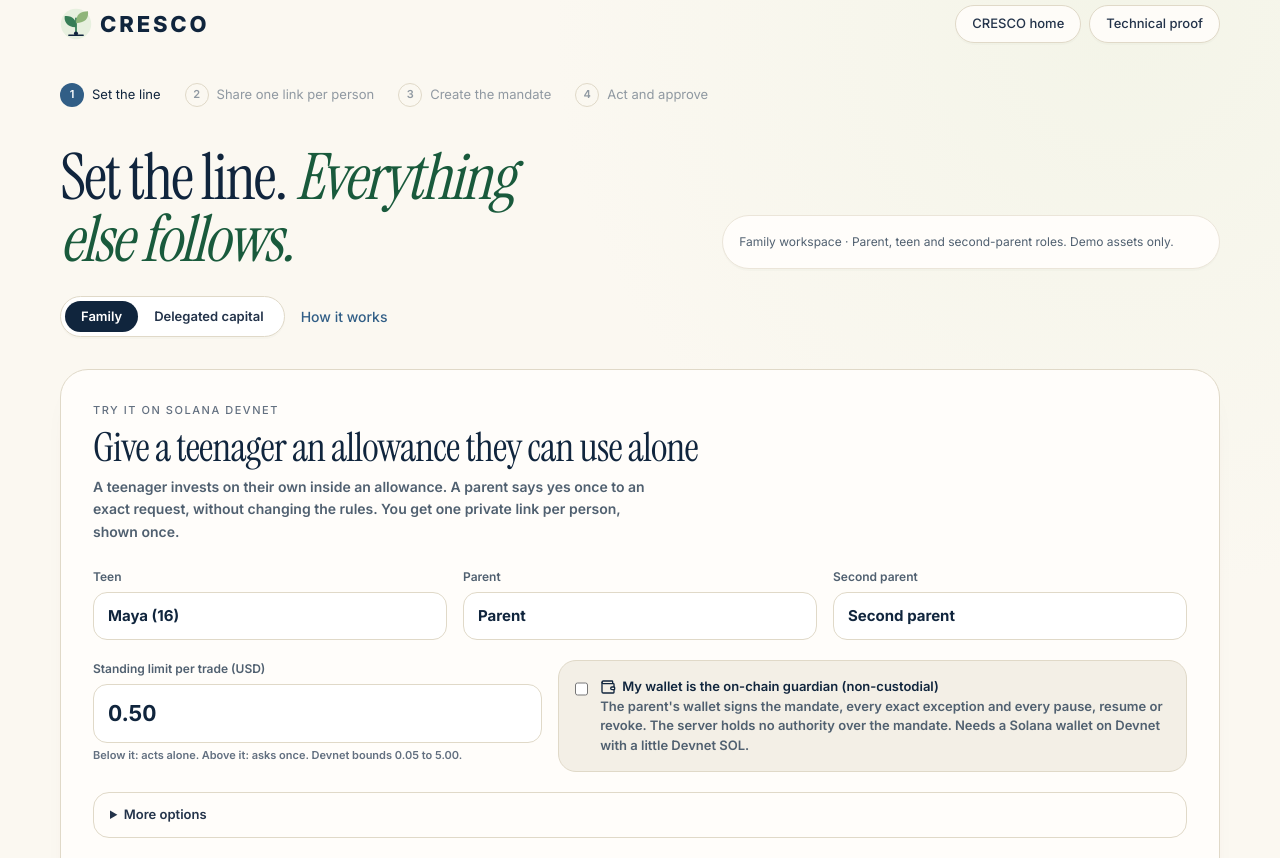
Test case: World's Fair desk › offers the family and delegated-capital presentations of the same mechanism
Expected: the heading "Give a teenager an allowance they can use alone" is shown, [93,421,698,473]
What coordinates should you click on to do the following:
click the radio button labelled "Delegated capital"
I would click on:
 (209, 317)
Its box is [138,301,280,332].
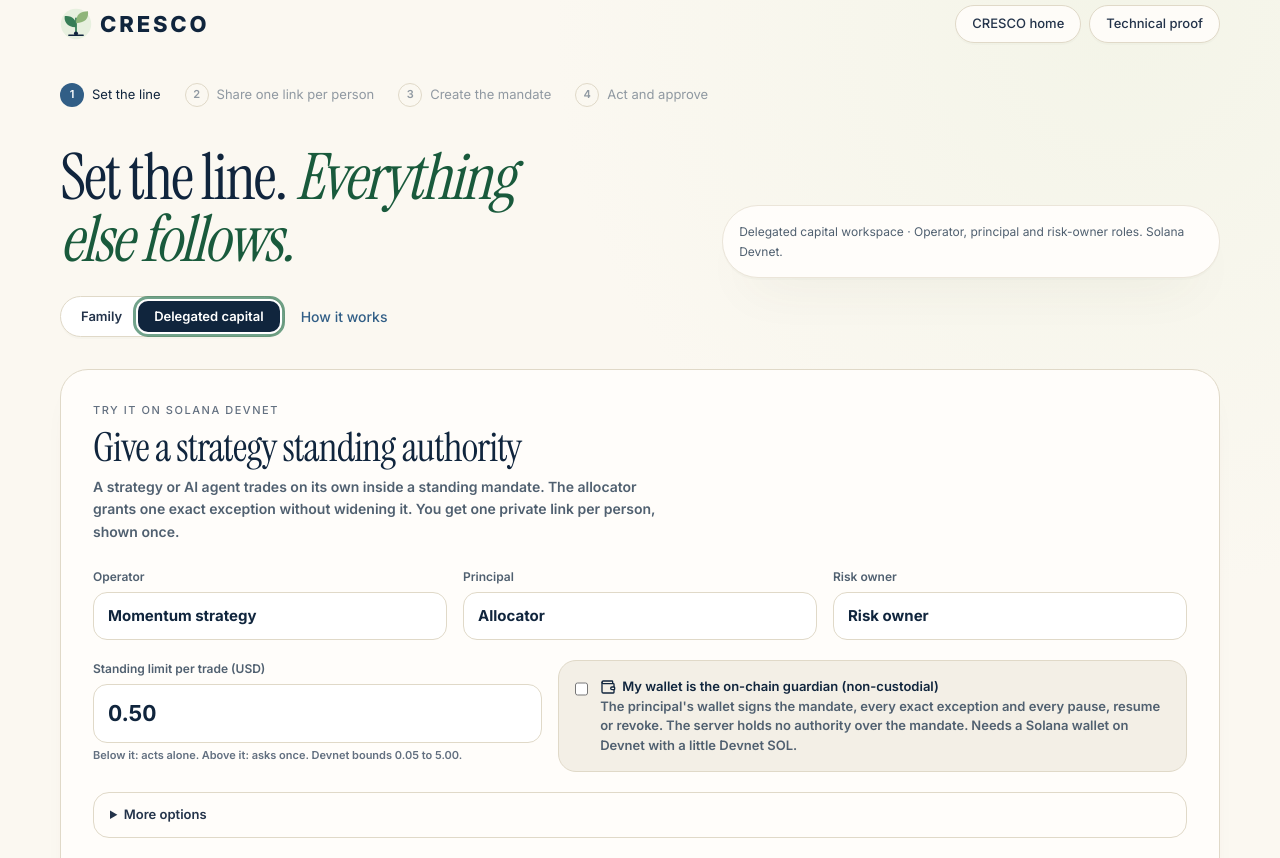
Expected: the heading "Give a strategy standing authority" is shown, [93,421,521,473]
What coordinates should you click on to do the following:
click the radio button labelled "Family"
I would click on:
 (102, 317)
Its box is [65,301,138,332].
(page scrolled)
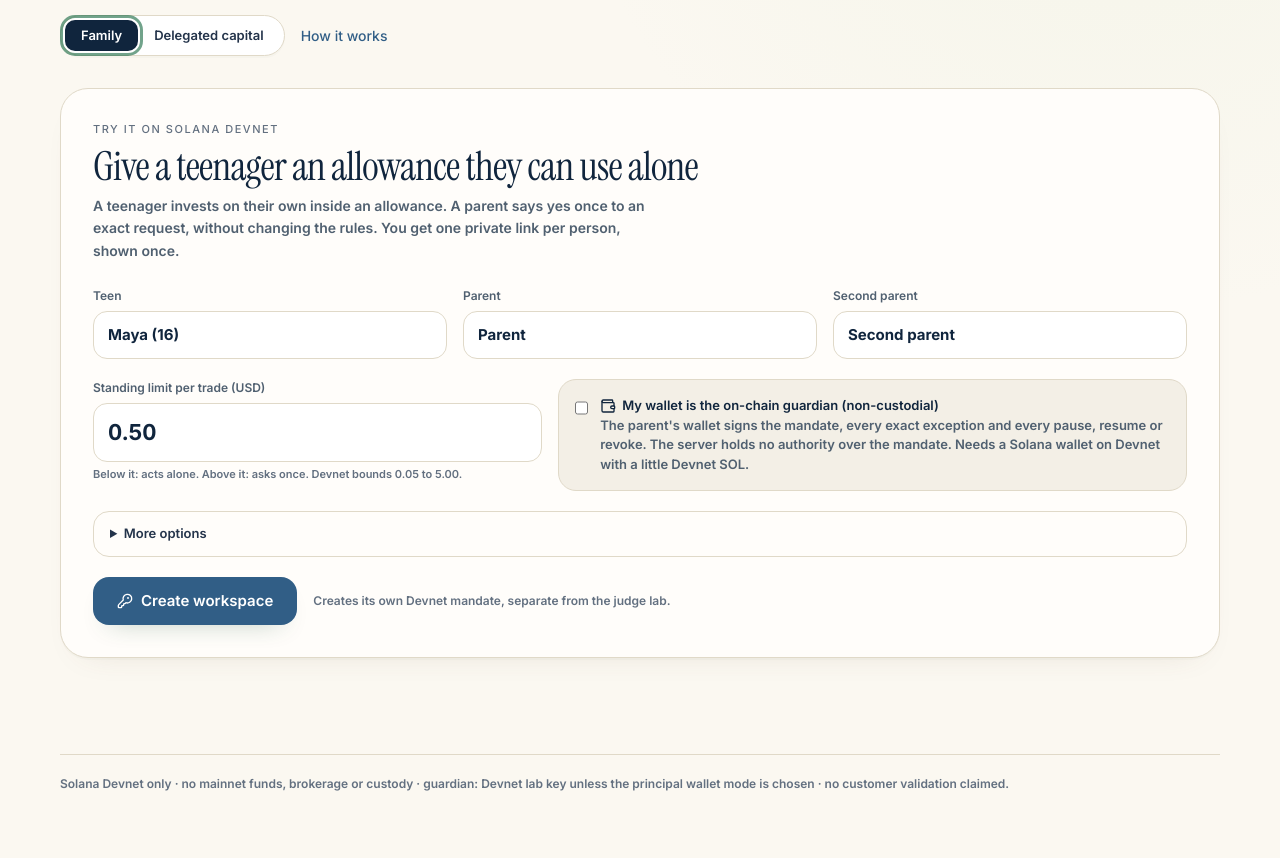
What coordinates should you click on to do the following:
click the button "Create workspace"
I would click on:
 (195, 601)
Its box is [93,577,297,625].
(page scrolled)
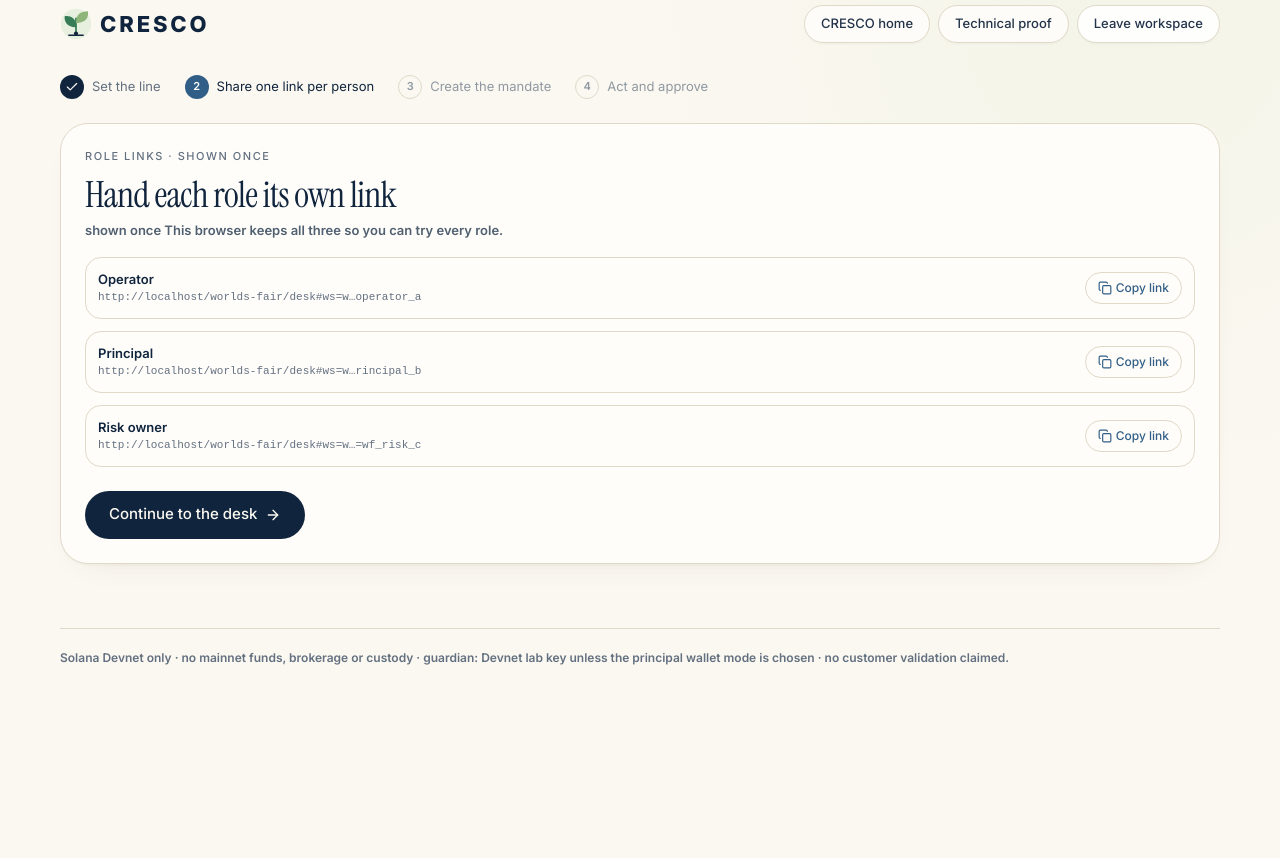
Expected: the heading "Hand each role its own link" is shown, [85,171,396,218]
